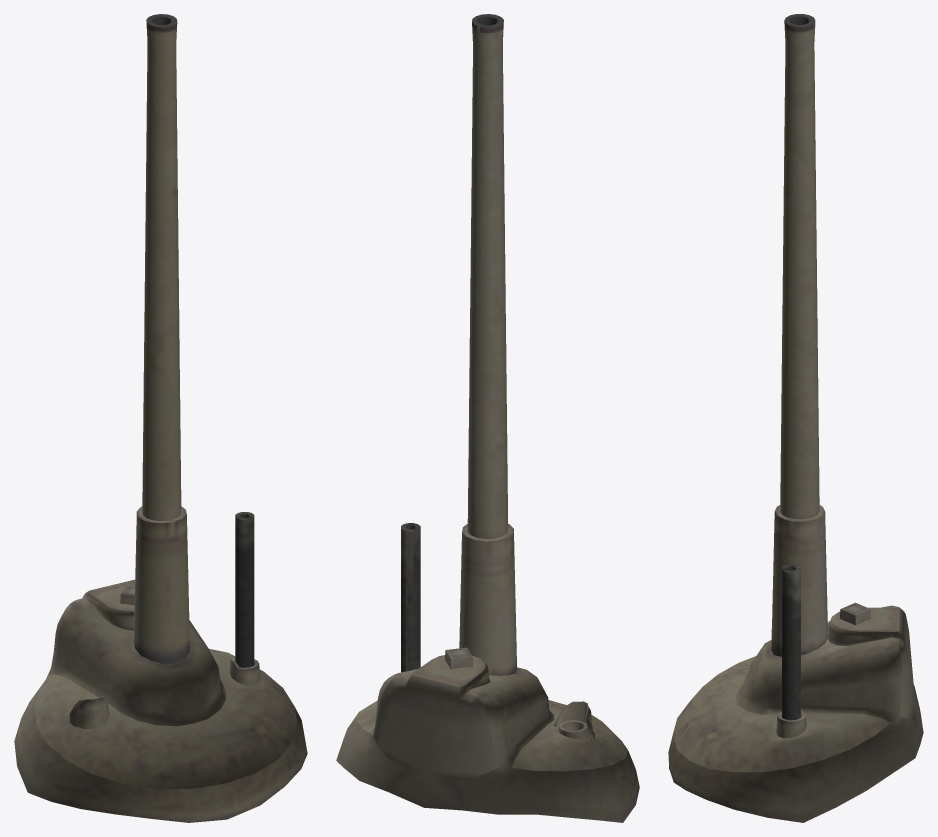
File: Gun_05.glb
3 renders of one model, left to right at view 1: azimuth 30°, elevation 25°; view 2: azimuth 150°, elevation 25°; view 3: azimuth 270°, elevation 25°, orthographic. The views are drawn at different scales.
Visible parts, largest first — view 1: set_0_group_0; view 2: set_0_group_0; view 3: set_0_group_0.
Part boxes in pixels (x1,y1,x2,y2): set_0_group_0: (14, 14, 307, 822); set_0_group_0: (336, 14, 639, 822); set_0_group_0: (668, 14, 923, 822).
Bounding box in the file's own units: 0.5119 × 1.4 × 0.4311.
1 material, 1 textured.
